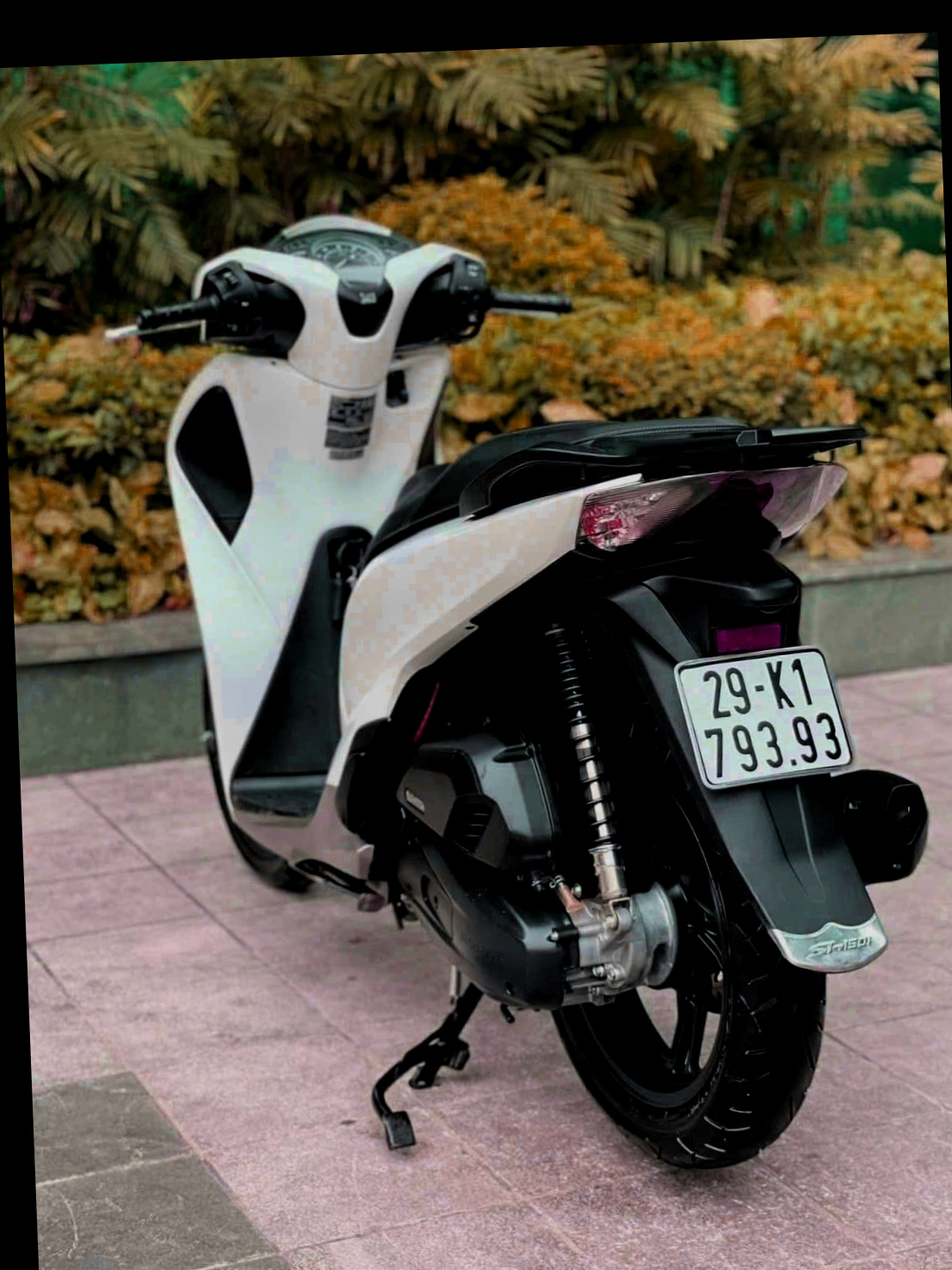Bien-so: (649, 612, 840, 784)
